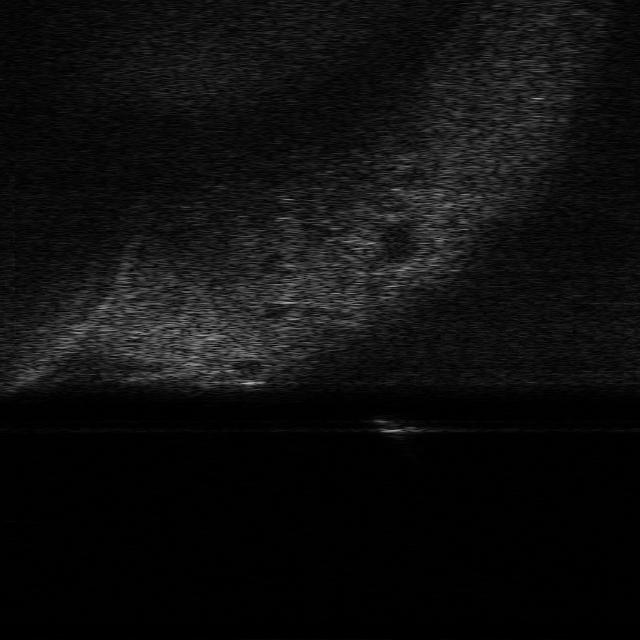cube: (372, 412, 422, 437)
